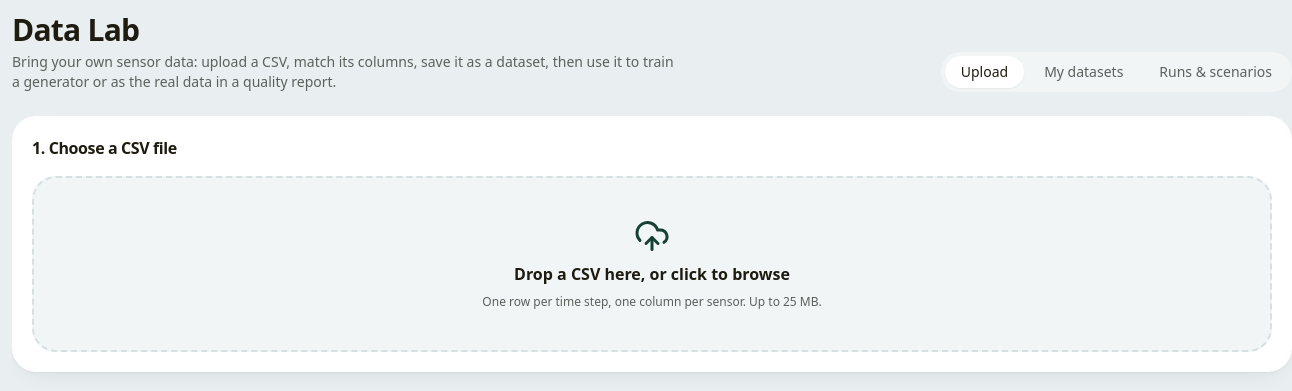
Test: Data Lab upload › lists datasets with export links and renames one
Later steps or results of the test are not shown.
Click the tab "My datasets" at (1084, 72), box [1028,56,1139,88]
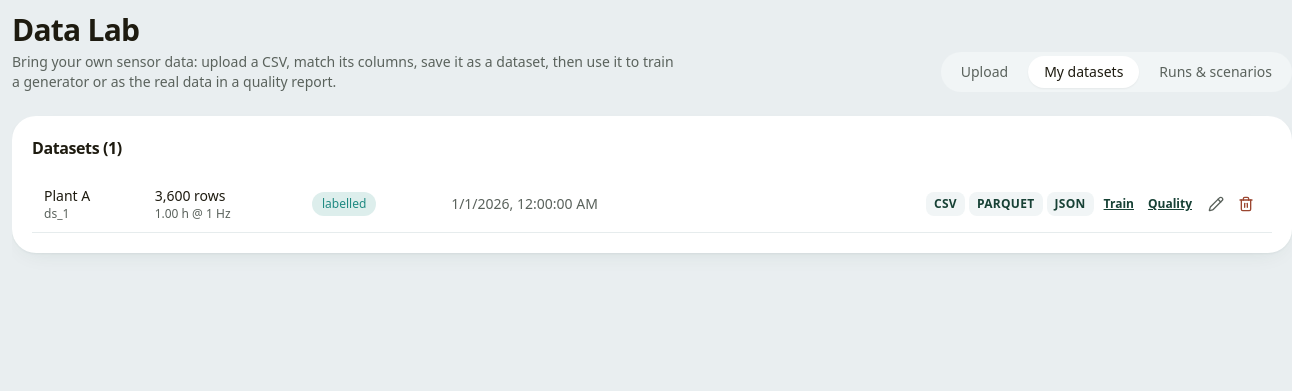
Expected: the text "Plant A" is shown, [44,186,90,205]
